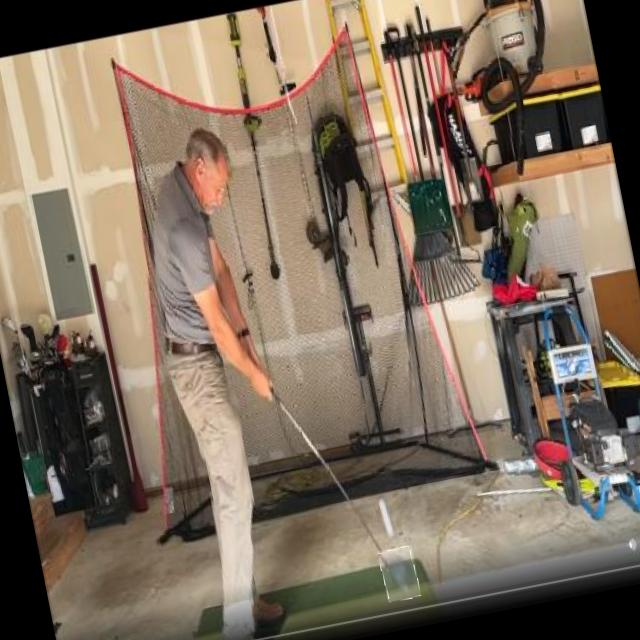club head: (378, 545, 422, 603)
